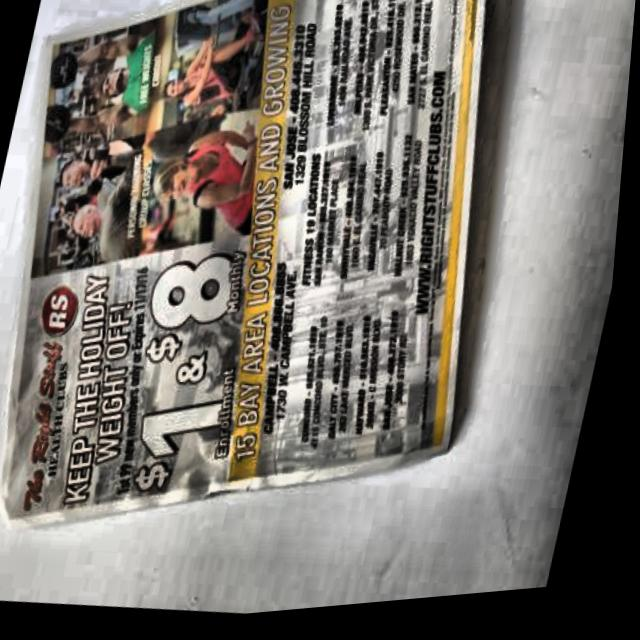Paper: (0, 0, 570, 603)
